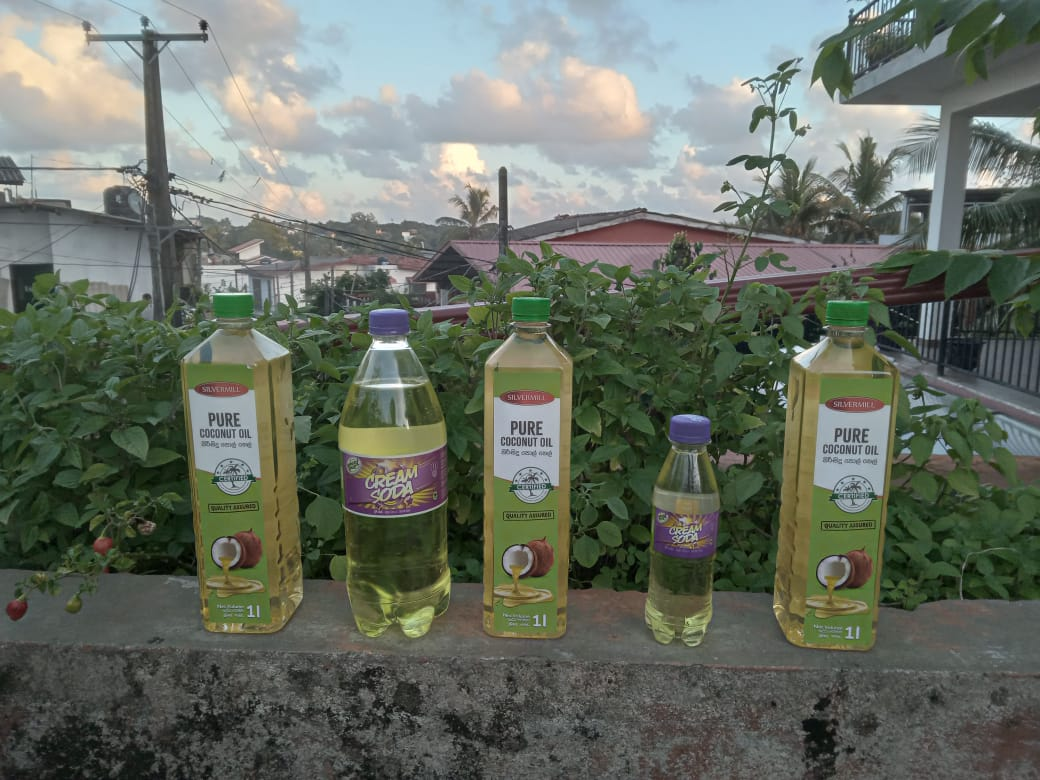M: (340, 308, 452, 639)
S: (641, 415, 723, 646)
